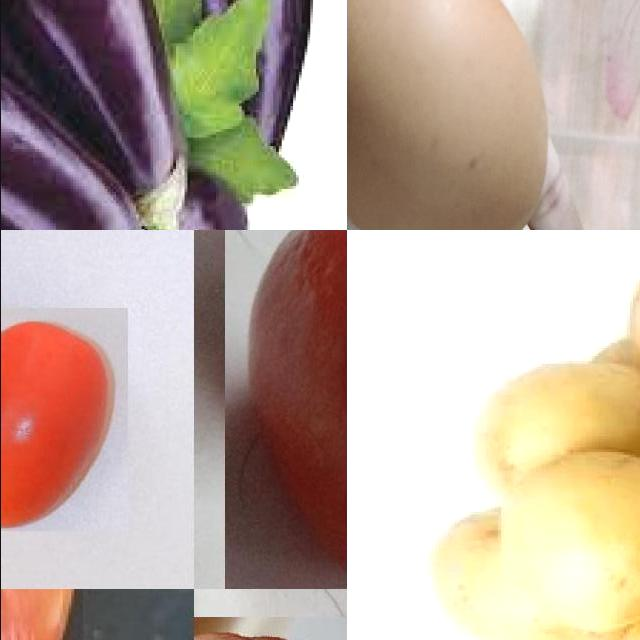egg: (347, 1, 557, 231)
eggplant: (1, 1, 188, 215), (1, 18, 159, 231), (62, 1, 234, 164), (1, 169, 251, 231)
potato: (499, 445, 640, 630), (432, 505, 622, 640), (468, 375, 640, 502), (592, 338, 640, 377)
tomato: (1, 309, 129, 531)
